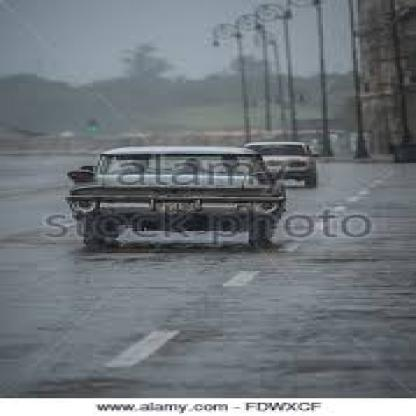car: (41, 115, 296, 266), (225, 128, 357, 194)
